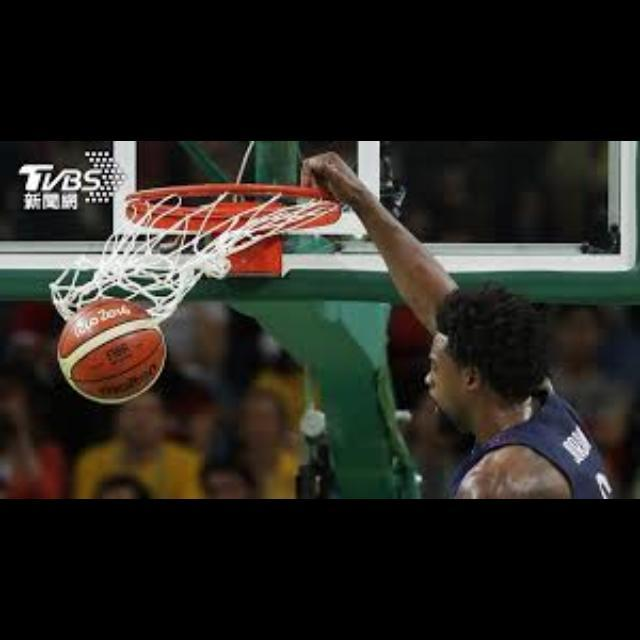basketball: (58, 300, 165, 404)
rim: (127, 184, 341, 302)
